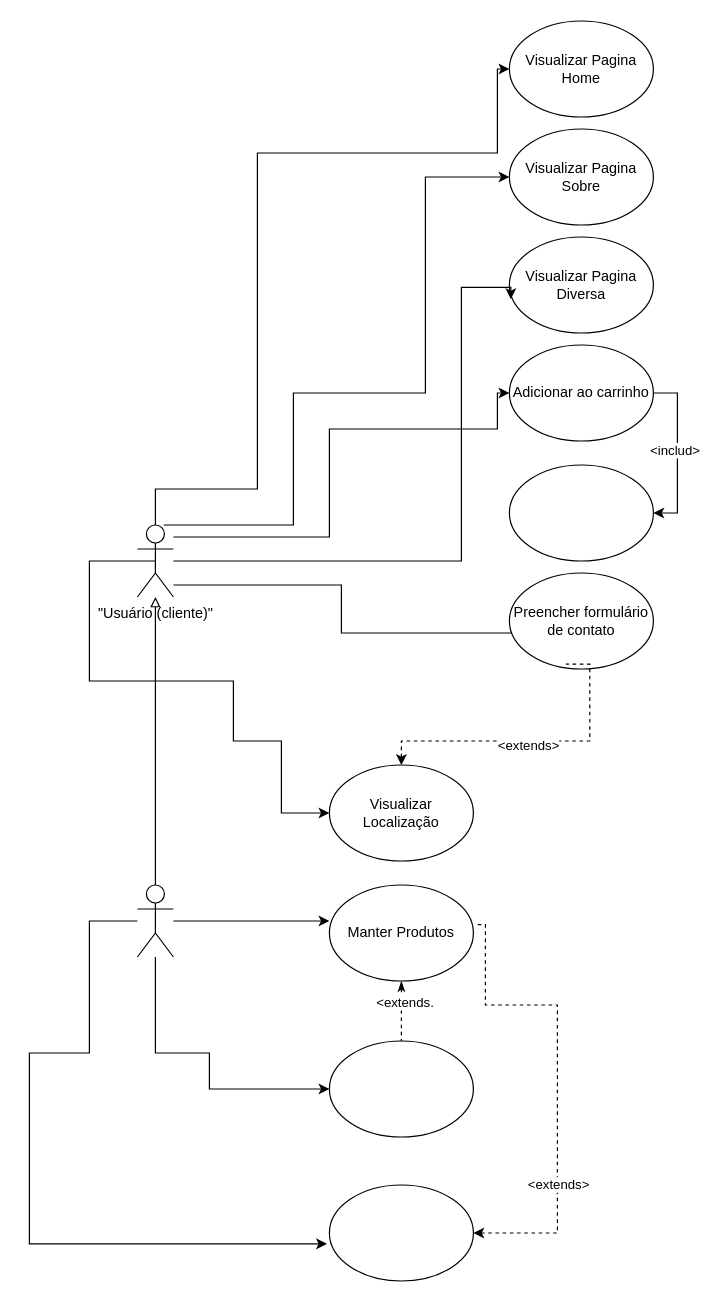
The diagram is 720 pixels wide and 1302 high, and some of its shapes have lost their labels. Here are the shapes that lost their labels. From the top down, the centre of each, then its label:
At (x=580, y=512): "Realizar Compra".
At (x=154, y=920): "Administrador".
At (x=400, y=1088): "Gerenciar Promoções".
At (x=400, y=1232): "Gerenciar Conteúdo da Página".
